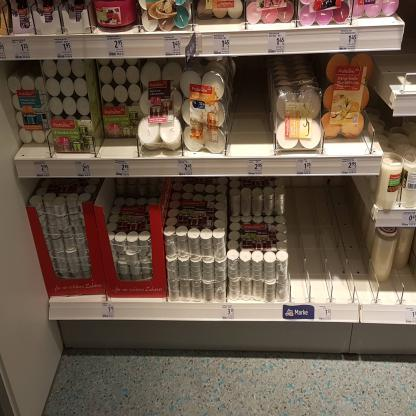Void: (290, 172, 376, 300), (234, 58, 272, 146)
